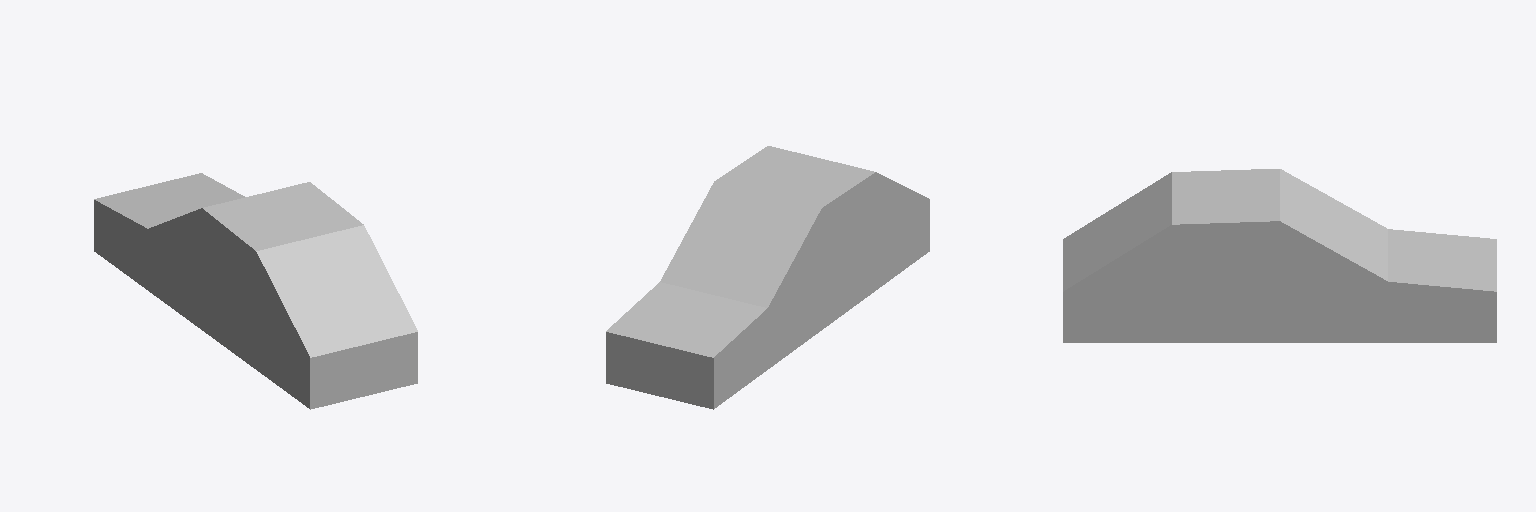
File: truck.obj
The picture shows the model from 3 angles: view 1: azimuth 30°, elevation 25°; view 2: azimuth 150°, elevation 25°; view 3: azimuth 270°, elevation 25°; orthographic projection.
Visible parts, largest first — view 1: Cube; view 2: Cube; view 3: Cube.
Part boxes in pixels (left/top/right/bottom): Cube: left=94, top=173, right=417, bottom=409; Cube: left=606, top=146, right=929, bottom=409; Cube: left=1063, top=169, right=1496, bottom=342.
Size of the model in its own units: 1.91 by 2.07 by 6.64.